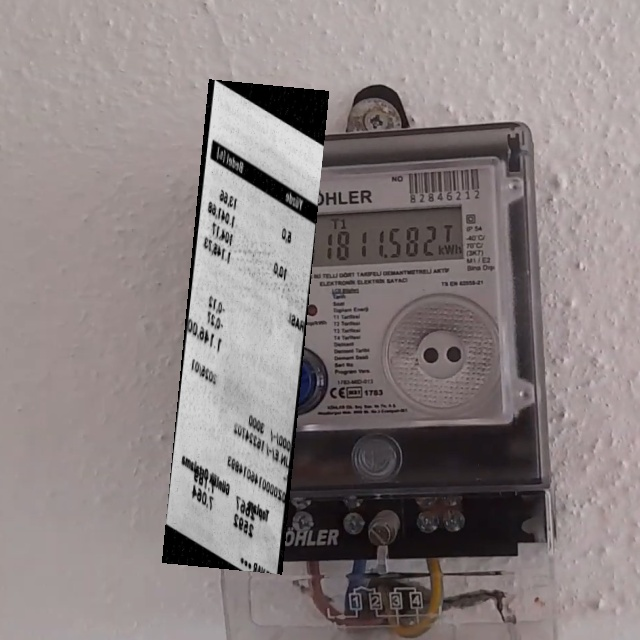electricity-bill: (161, 78, 328, 574)
